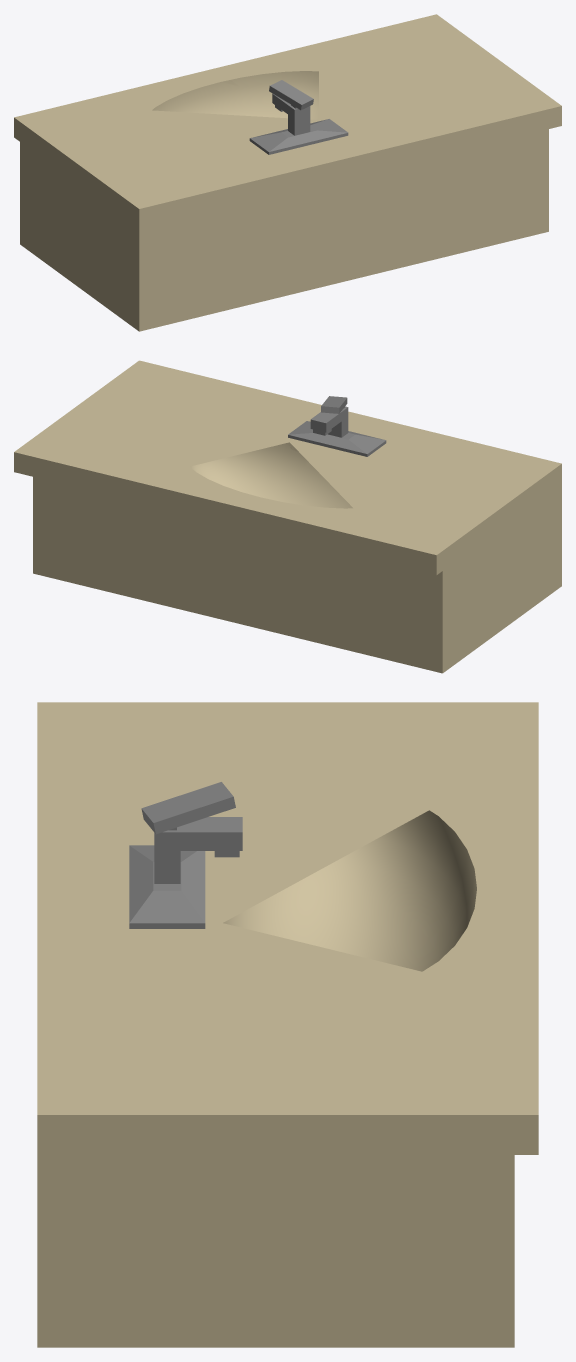
File: sinkv2.fbx
3 renders of one model, top to bottom at view 1: azimuth 30°, elevation 25°; view 2: azimuth 150°, elevation 25°; view 3: azimuth 270°, elevation 25°, orthographic. The views are drawn at different scales.
Visible parts, largest first — view 1: sink, faucet; view 2: sink, faucet; view 3: sink, faucet.
Boxes of the visible parts, box(x1,y1,x2,y2) form: sink: box(14, 14, 561, 331); faucet: box(249, 80, 348, 154); sink: box(14, 360, 561, 673); faucet: box(288, 396, 386, 456); sink: box(37, 702, 538, 1347); faucet: box(129, 782, 242, 928).
Bounding box in the file's own units: 241 × 92.31 × 124.
